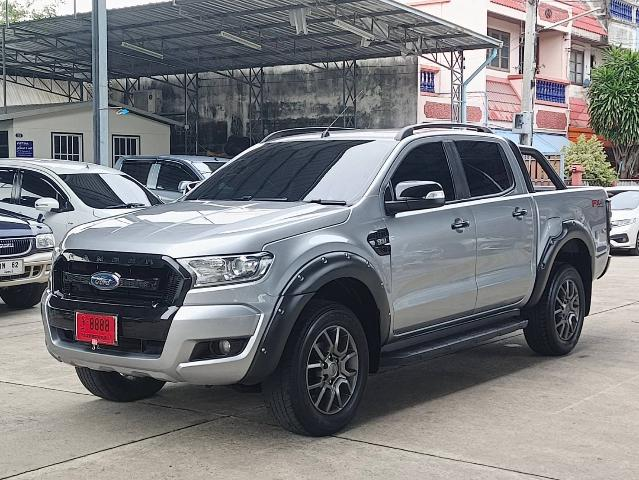pickup-truck: (21, 111, 628, 444)
